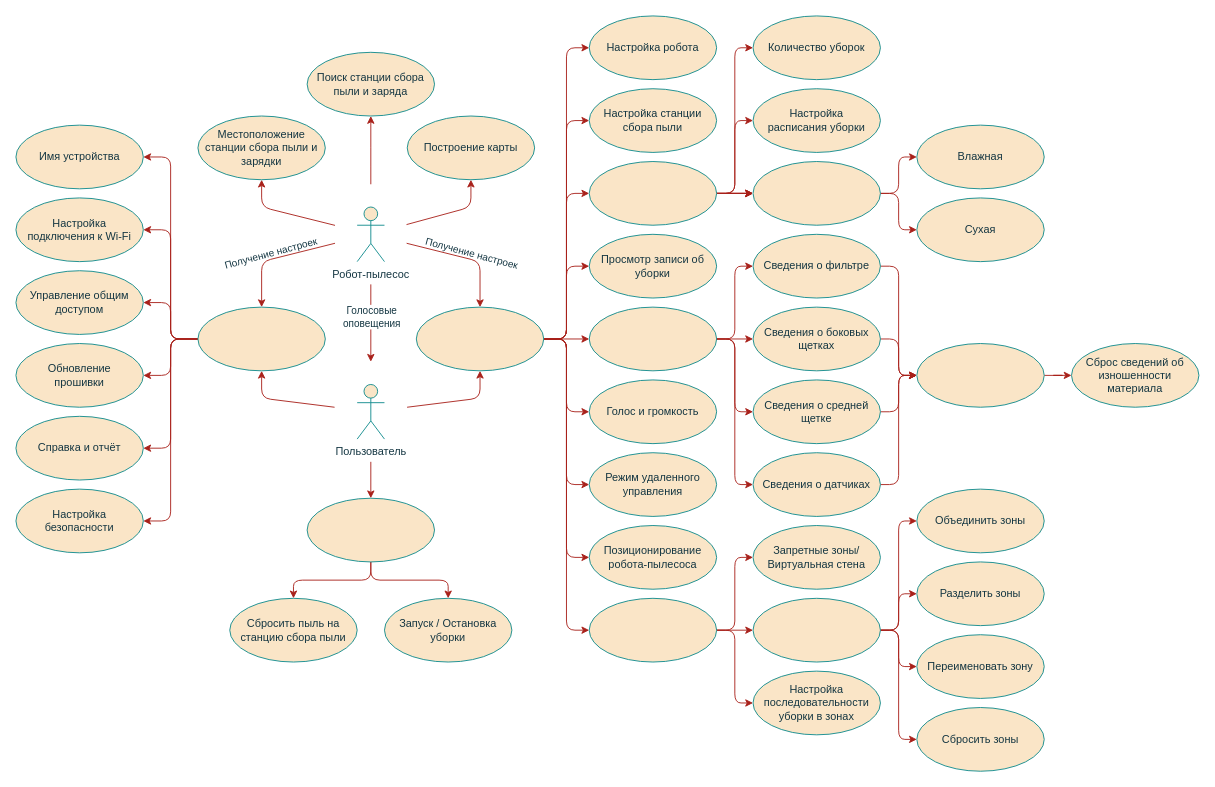
Some shapes in this 1215 by 787 pixel diagram are drawn without their labels. The centre of each missing label's shape, as x and y in pixels:
Замена расходного материала: point (980, 375)
Изменение карты: point (816, 629)
Настройка карты: point (652, 629)
Настройки устройства: point (479, 338)
Общие настройки: point (261, 338)
Тип уборки: point (816, 193)
Уборка: point (652, 193)
Управление: point (370, 529)
Учёт расходных материалов: point (652, 338)
